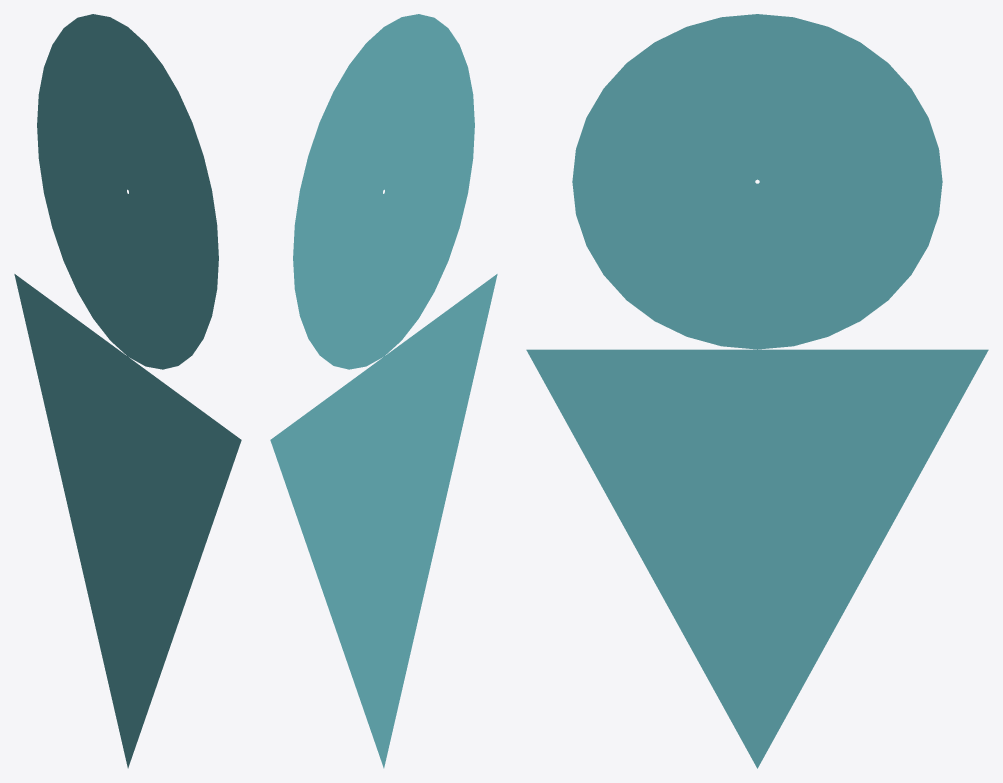
Rendered from playerAlpha2D.fbx.
3 views of the same model, side by side, from view 1: azimuth 30°, elevation 25°; view 2: azimuth 150°, elevation 25°; view 3: azimuth 270°, elevation 25° (orthographic).
Parts seen in each view (by area): view 1: Plane; view 2: Plane; view 3: Plane.
Boxes of the visible parts, bbox=[...] form: Plane: bbox=[14, 14, 241, 768]; Plane: bbox=[270, 14, 497, 768]; Plane: bbox=[526, 14, 988, 768].
Bounding box in the file's own units: 4.75e-05 × 180 × 100.
